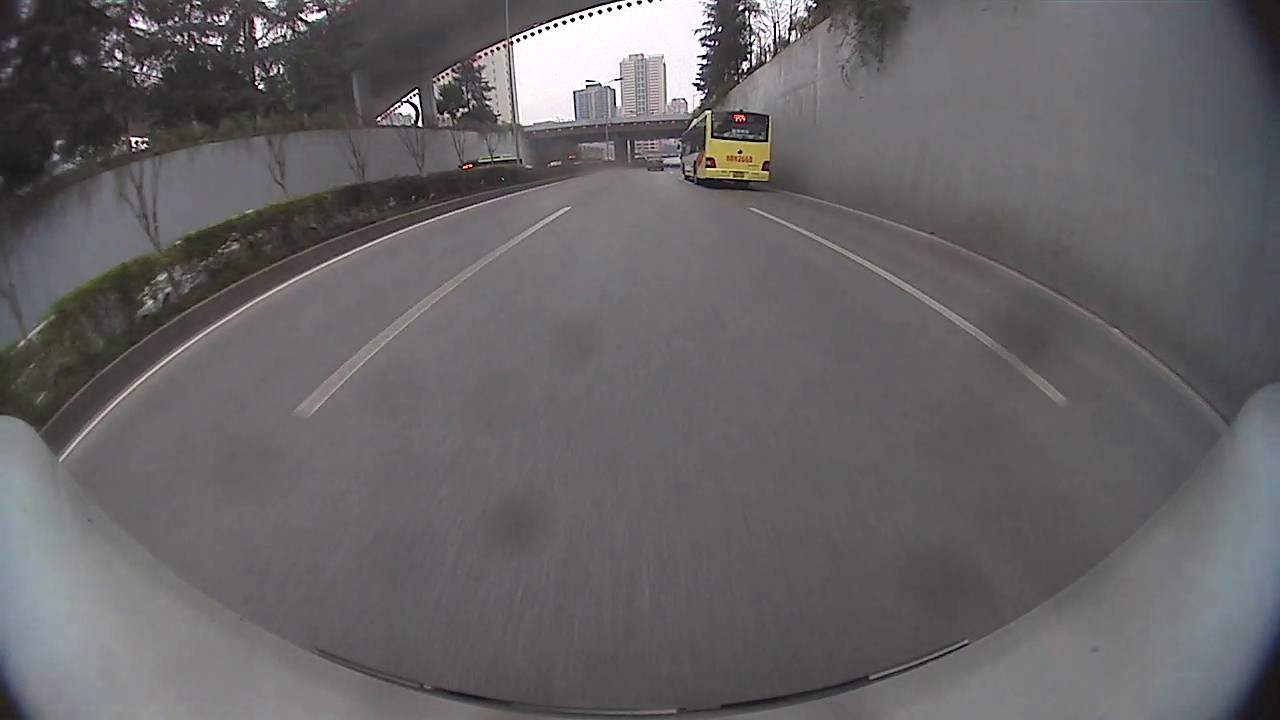bus: (674, 106, 775, 190), (459, 152, 525, 168)
